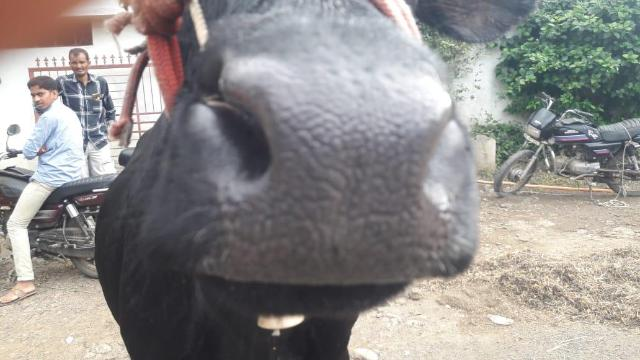Muzzle: (246, 72, 439, 264)
